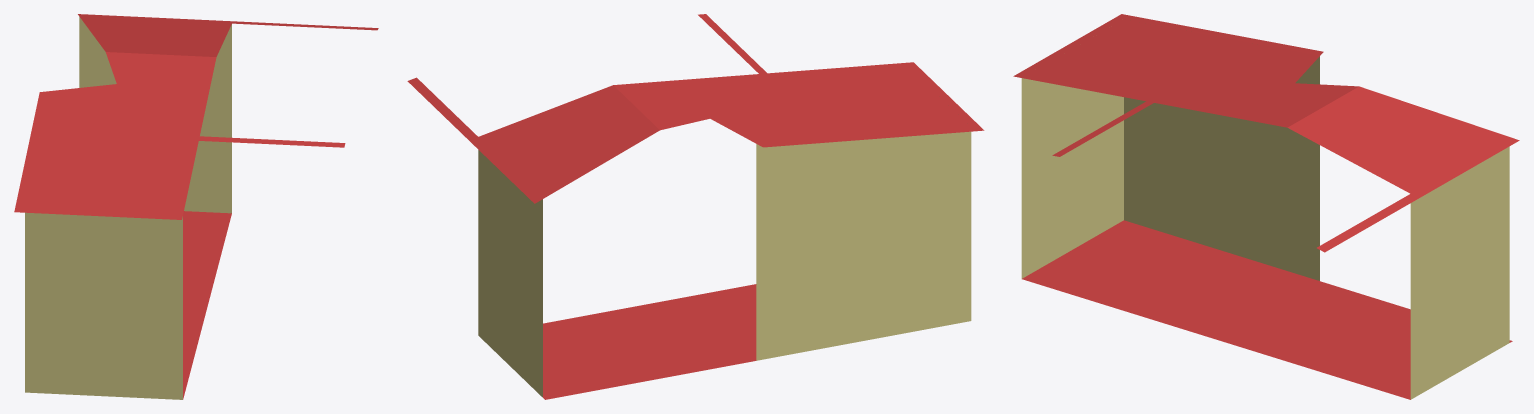
3 renders of one model, left to right at view 1: azimuth 30°, elevation 25°; view 2: azimuth 150°, elevation 25°; view 3: azimuth 270°, elevation 25°, orthographic. The views are drawn at different scales.
Bounding box in the file's own units: 13.55 × 11.95 × 6.09.
